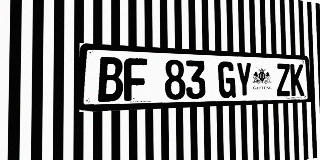3: (186, 60, 205, 99)
8: (165, 59, 186, 100)
B: (98, 57, 123, 102)
F: (124, 58, 147, 101)
G: (218, 61, 236, 98)
K: (290, 64, 304, 96)
Y: (235, 62, 252, 98)
Z: (276, 63, 291, 97)
